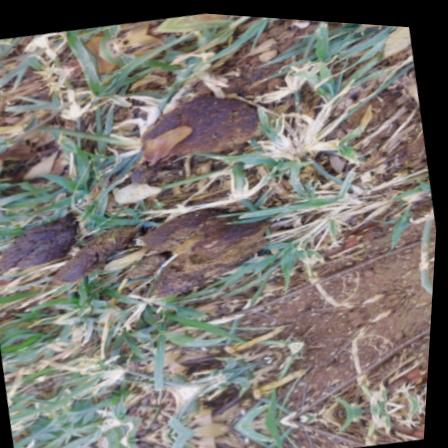dog-poop: (17, 195, 274, 325), (140, 68, 269, 171)
